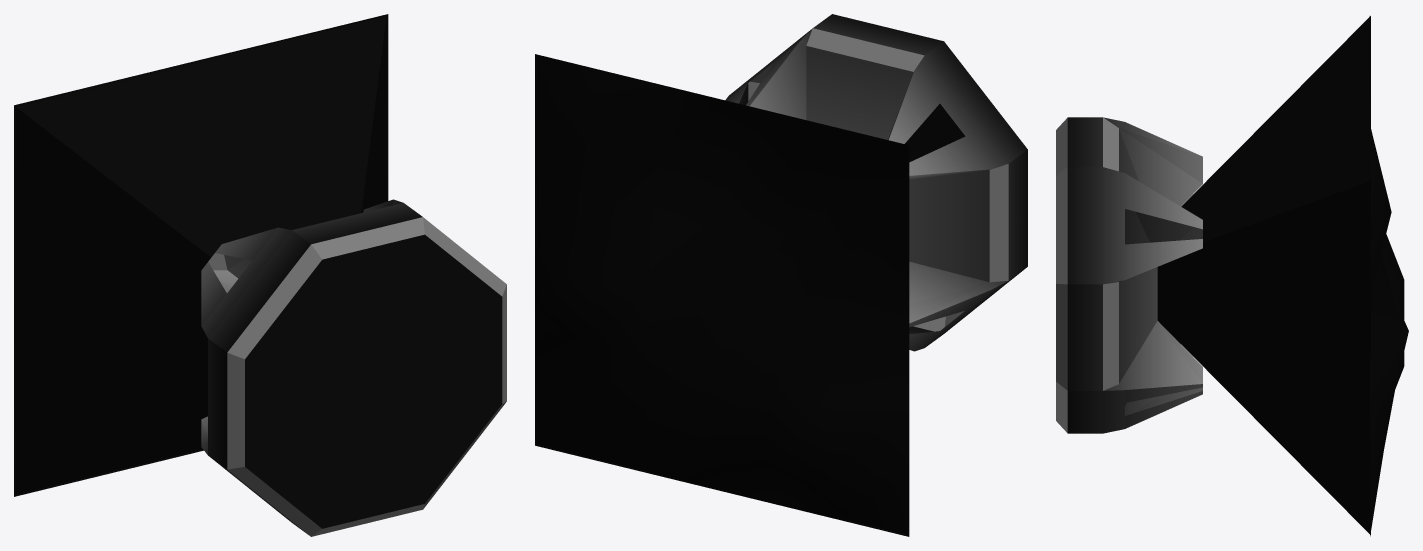
The model's file is Leg_TerrainInspector_1X1_on.FBX.
The picture shows the model from 3 angles, left to right: view 1: azimuth 30°, elevation 25°; view 2: azimuth 150°, elevation 25°; view 3: azimuth 270°, elevation 25°; orthographic projection. The views are drawn at different scales.
Parts seen in each view (by area): view 1: Box002; view 2: Box002; view 3: Box002.
Part boxes in pixels (bbox=[...]): Box002: bbox=[14, 14, 506, 536]; Box002: bbox=[535, 14, 1027, 536]; Box002: bbox=[1056, 16, 1408, 536].
Bounding box in the file's own units: 1.34 × 1.34 × 1.2.
